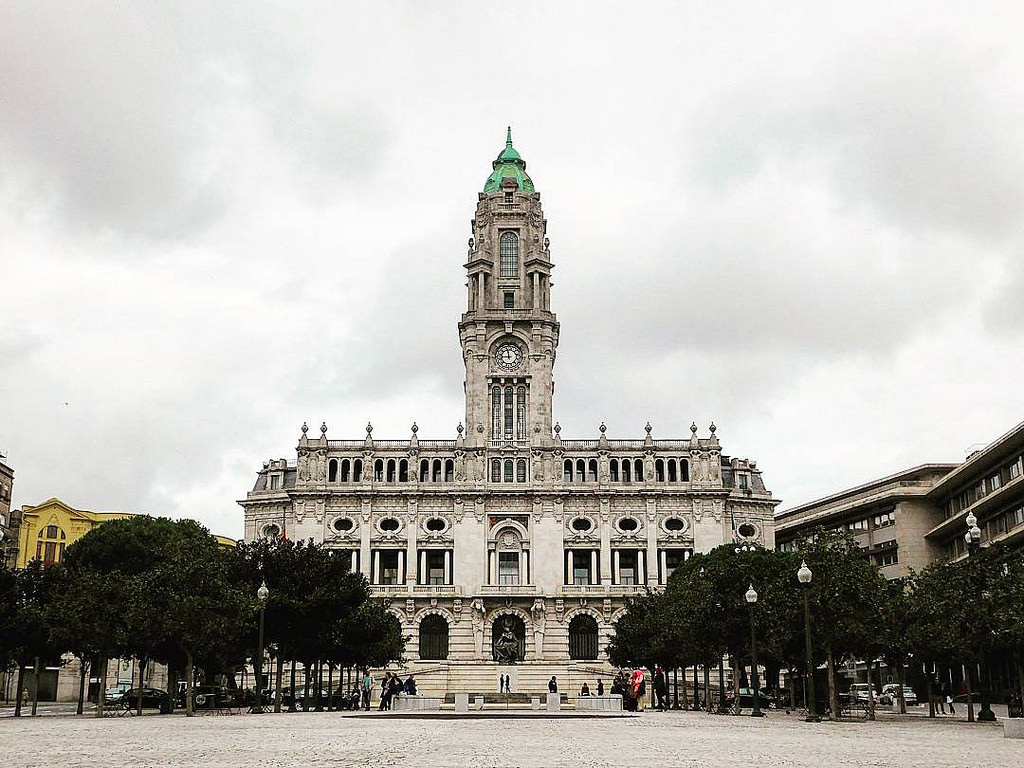camara: (233, 123, 784, 691)
